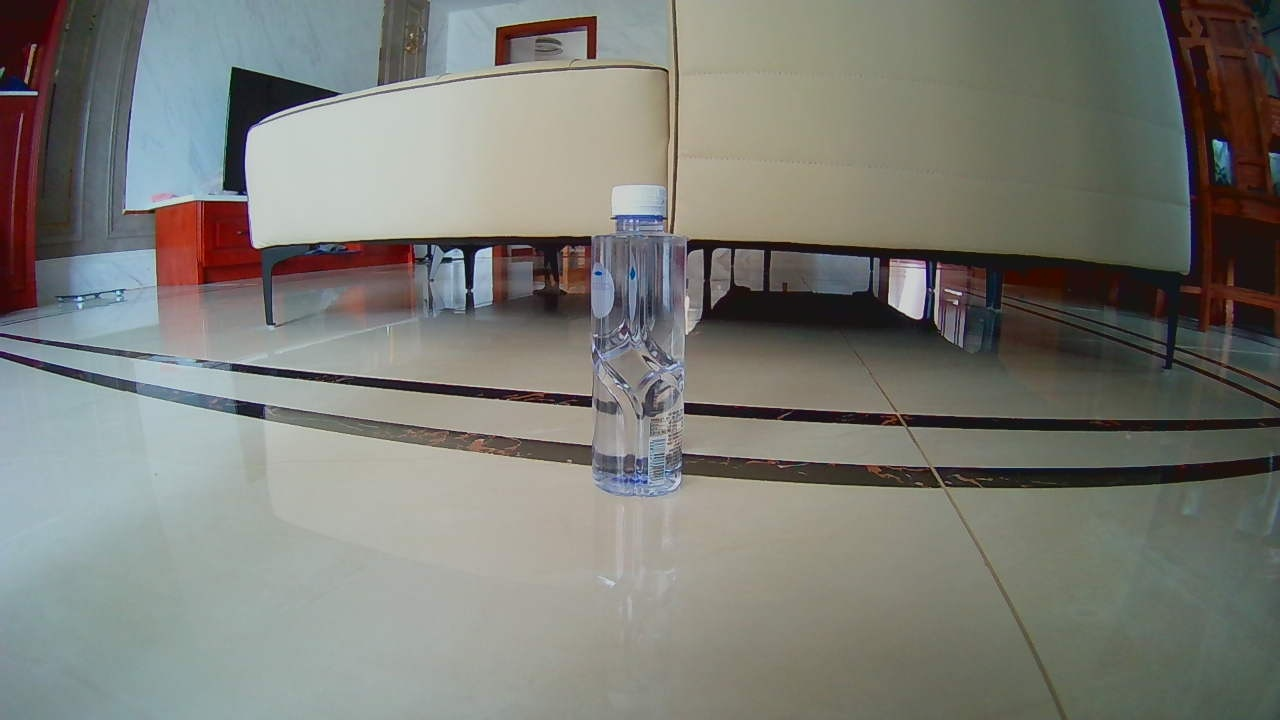water: (593, 187, 680, 490)
